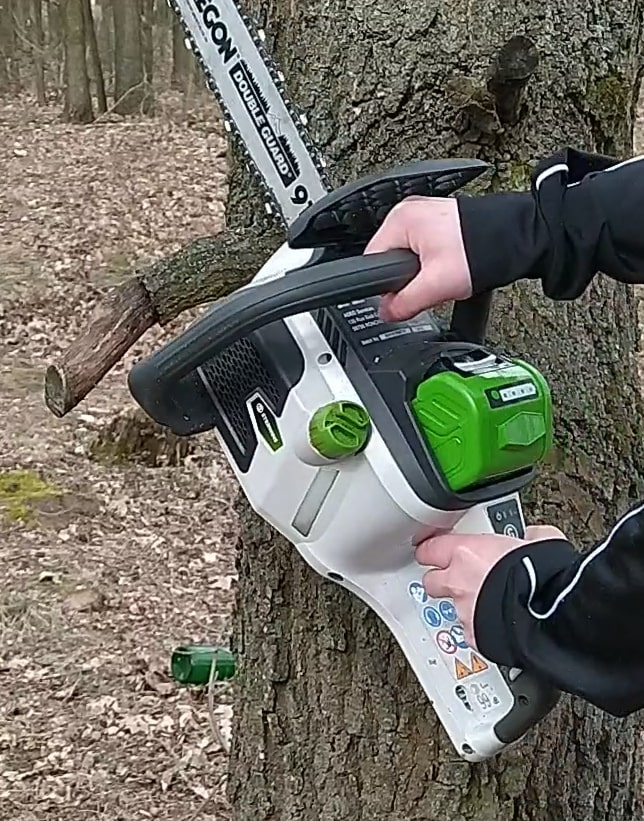chainsaw: (126, 1, 594, 795)
